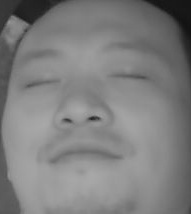blink: (109, 67, 148, 89), (24, 73, 61, 92)
mouth: (49, 135, 121, 172)
